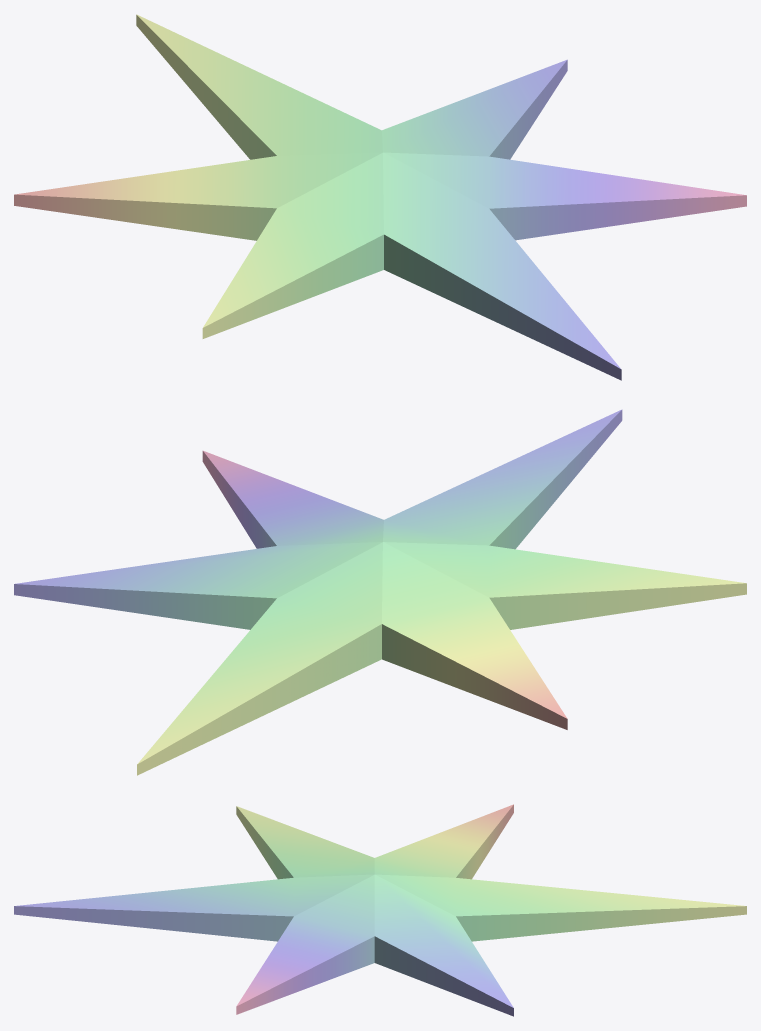
File: 6Star.fbx
3 renders of one model, top to bottom at view 1: azimuth 30°, elevation 25°; view 2: azimuth 150°, elevation 25°; view 3: azimuth 270°, elevation 25°, orthographic. The views are drawn at different scales.
Parts seen in each view (by area): view 1: 6Star; view 2: 6Star; view 3: 6Star.
Part boxes in pixels (x1,y1,x2,y2): 6Star: (14,14,746,380); 6Star: (14,409,746,775); 6Star: (14,804,746,1016).
Bounding box in the file's own units: 1.76 × 2.67 × 0.2884.
1 material, 1 textured.
